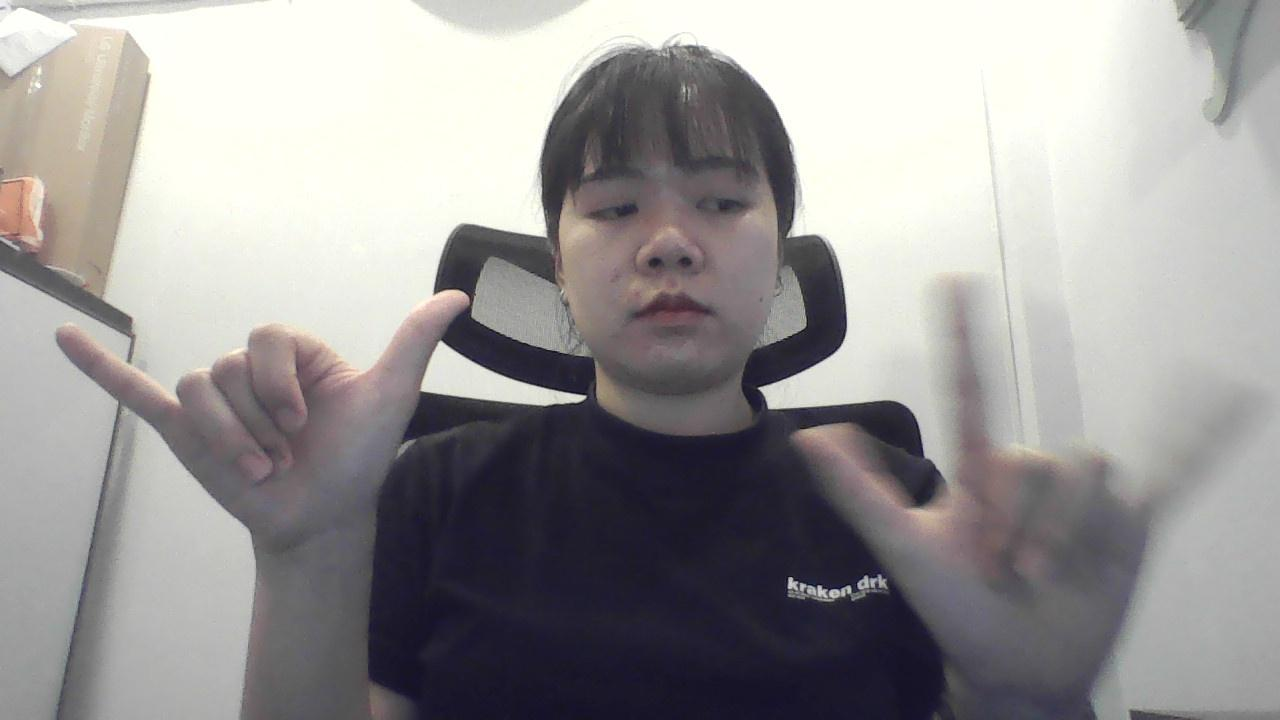Y: (4, 294, 542, 571)
